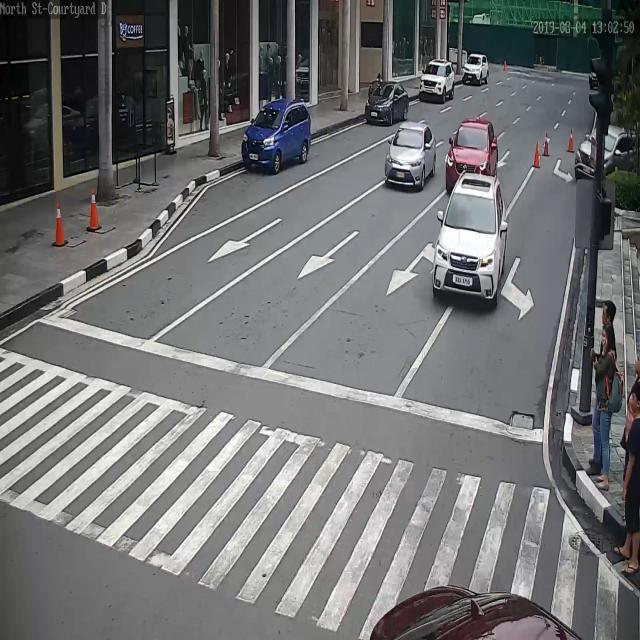car: (432, 171, 507, 298), (240, 98, 311, 176), (446, 117, 498, 193), (575, 124, 640, 180), (385, 121, 436, 189), (366, 81, 409, 127), (419, 59, 454, 103), (461, 54, 489, 85)
